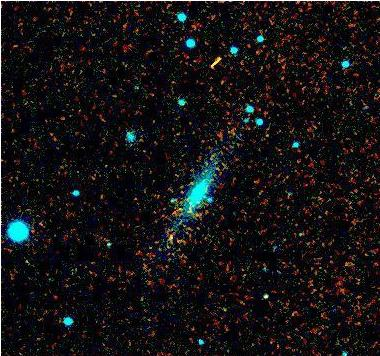star: (155, 221, 185, 251)
